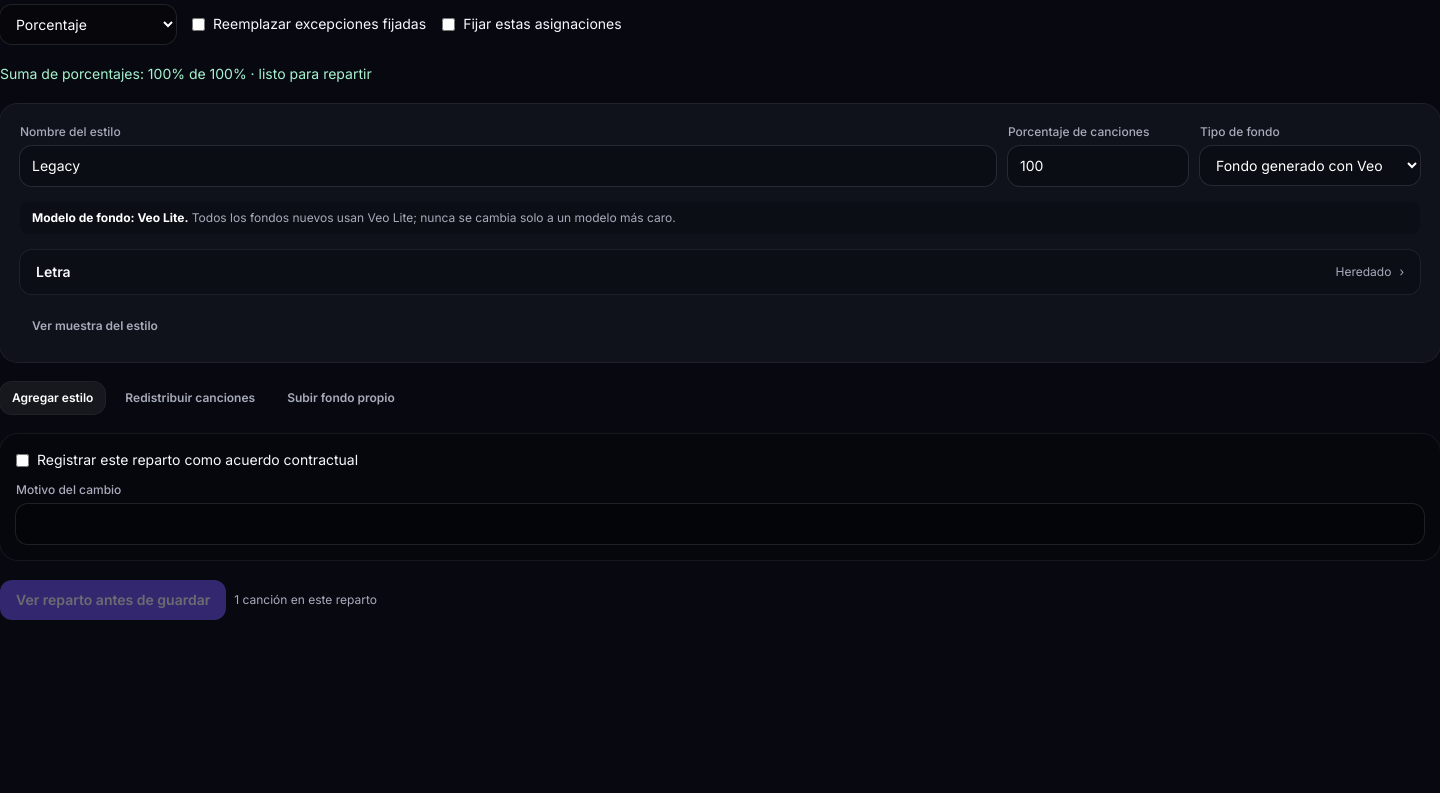
Test: style assignment › always uses Veo Lite, even for groups saved with a faster model
Expected: the text "Modelo de fondo: Veo Lite." is shown, [32,210,188,225]
Type "Lite obligatorio" into the field labelled "Motivo del cambio" at (720, 524), box [16,504,1424,544]
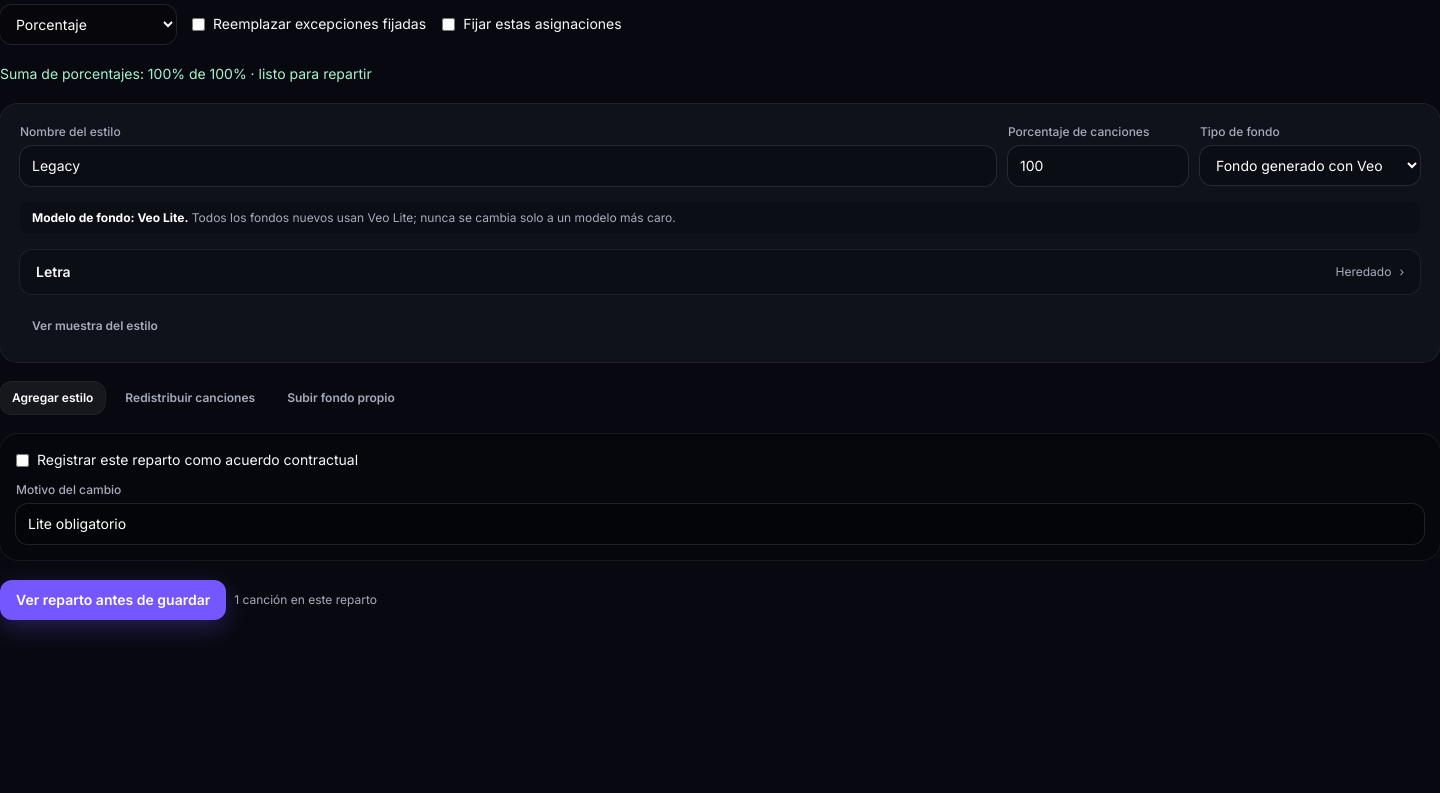
Click the button "Ver reparto antes de guardar" at (113, 600), box [0,580,226,620]
(page scrolled)
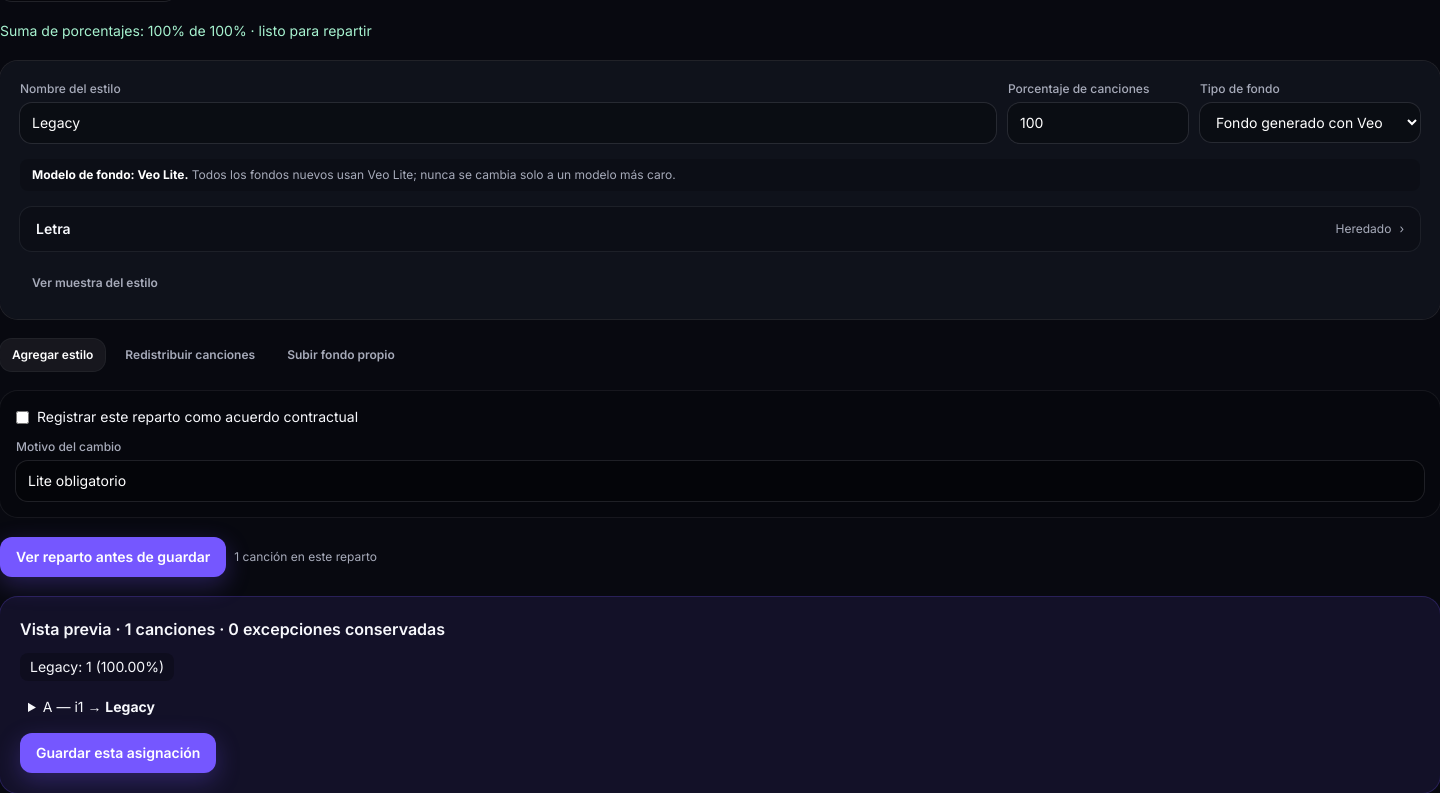
Expected: the button "Guardar esta asignación" is shown, [20,733,216,773]
